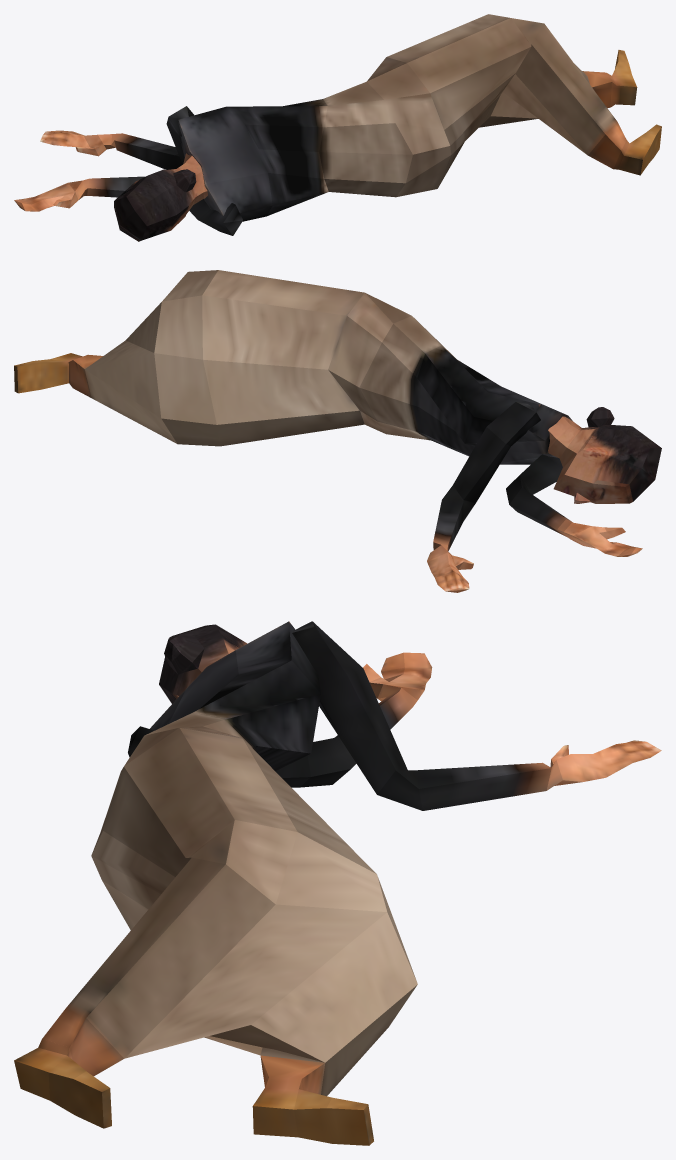
The model's file is bodyFemaleRIG.fbx.
3 views of the same model, one above another, from view 1: azimuth 30°, elevation 25°; view 2: azimuth 150°, elevation 25°; view 3: azimuth 270°, elevation 25° (orthographic). The views are drawn at different scales.
Visible parts, largest first — view 1: femaleBody; view 2: femaleBody; view 3: femaleBody.
Part boxes in pixels (<box>): femaleBody: <box>14,14,661,241</box>; femaleBody: <box>14,270,661,592</box>; femaleBody: <box>14,621,661,1145</box>.
Bounding box in the file's own units: 25.68 × 14.43 × 5.41.
Materials: 2 (2 with a texture image).
